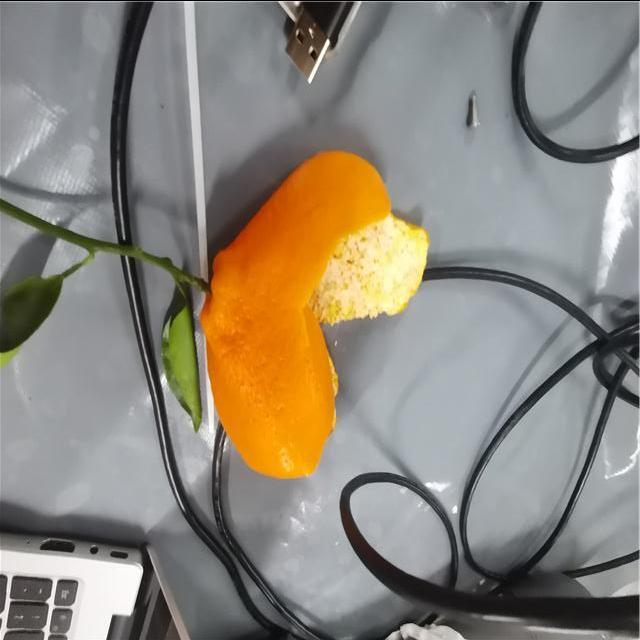orange peel: (192, 143, 432, 481)
